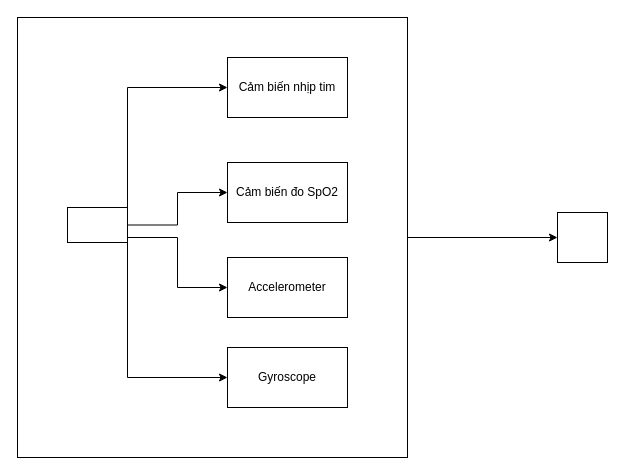
This 625x475 diagram has some shape labels left out. Here are the shapes that lost their labels. From the top down, the box of each, then its label:
(66, 206, 128, 242): MCU
(556, 212, 608, 262): LCD
